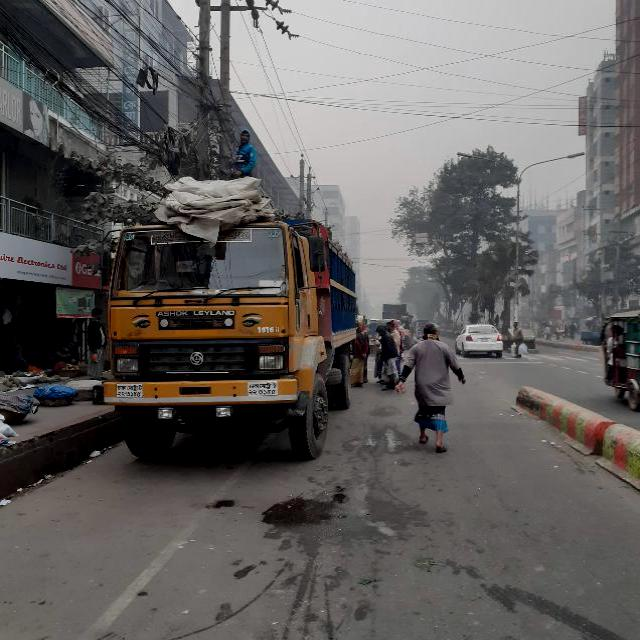car: (454, 323, 500, 356)
motorcycle: (596, 309, 638, 410), (364, 318, 376, 346), (412, 319, 426, 336), (536, 321, 548, 336)
truck: (91, 218, 353, 455)
